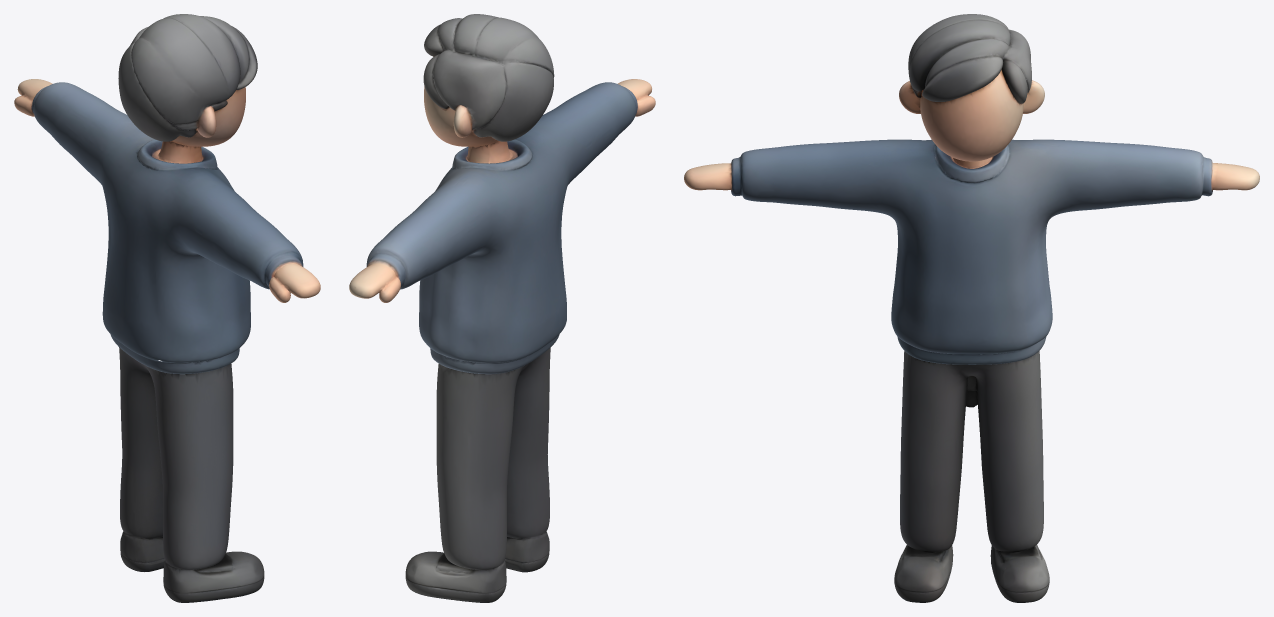
File: character_female.glb
The picture shows the model from 3 angles, left to right: view 1: azimuth 30°, elevation 25°; view 2: azimuth 150°, elevation 25°; view 3: azimuth 270°, elevation 25°; orthographic projection.
Visible parts, largest first — view 1: tripo_node_94bdd53f-54fd-4012-b681-8463adfd3213; view 2: tripo_node_94bdd53f-54fd-4012-b681-8463adfd3213; view 3: tripo_node_94bdd53f-54fd-4012-b681-8463adfd3213.
Boxes of the visible parts, x1,y1,x2,y2 form: tripo_node_94bdd53f-54fd-4012-b681-8463adfd3213: (14,14,320,602); tripo_node_94bdd53f-54fd-4012-b681-8463adfd3213: (349,14,655,602); tripo_node_94bdd53f-54fd-4012-b681-8463adfd3213: (684,14,1259,602).
Size of the model in its own units: 0.2379 by 1 by 0.9346.
Materials: 1 (1 with a texture image).
